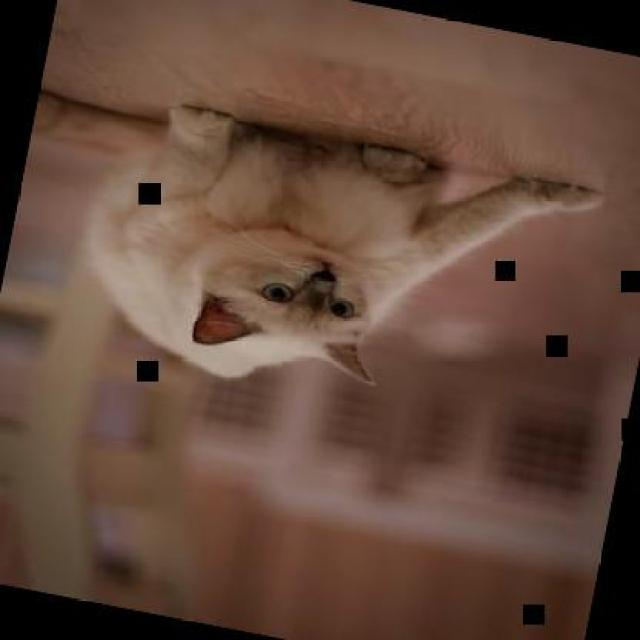cat: (0, 71, 611, 443)
